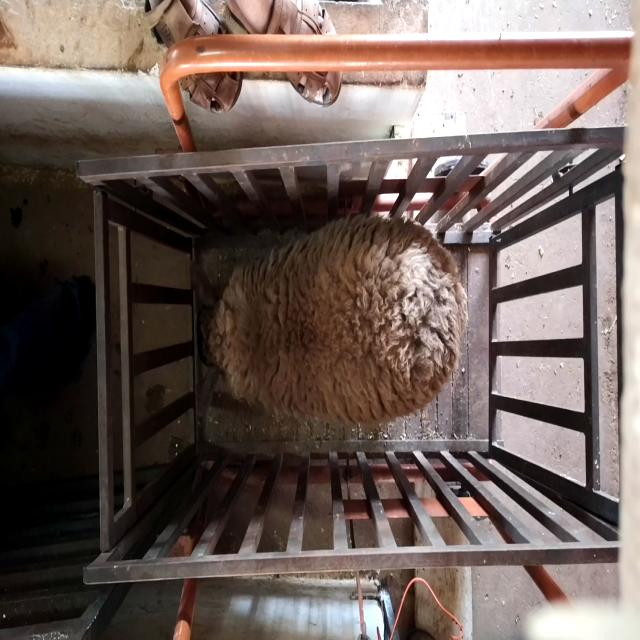sheep: (189, 214, 469, 428)
